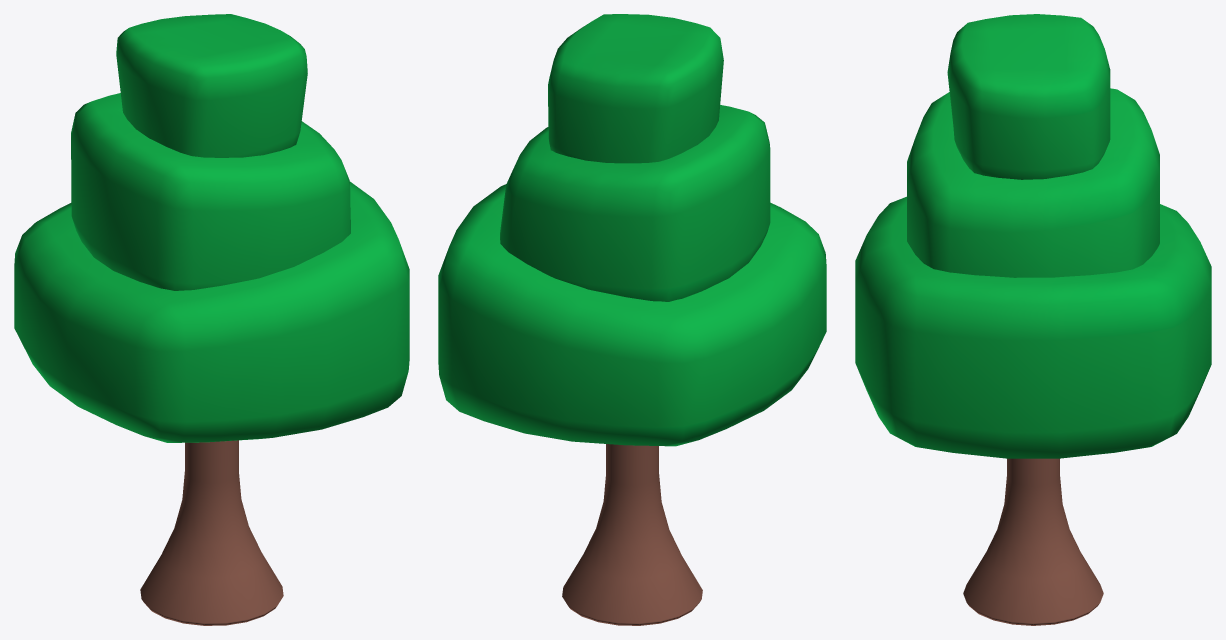
Rendered from Town_4_Tree_2.glb.
The picture shows the model from 3 angles, left to right: view 1: azimuth 30°, elevation 25°; view 2: azimuth 150°, elevation 25°; view 3: azimuth 270°, elevation 25°; orthographic projection. The views are drawn at different scales.
Parts seen in each view (by area): view 1: Town_4_Tree_2; view 2: Town_4_Tree_2; view 3: Town_4_Tree_2.
Part boxes in pixels (x1,y1,x2,y2): Town_4_Tree_2: (14, 14, 409, 625); Town_4_Tree_2: (438, 14, 826, 625); Town_4_Tree_2: (855, 14, 1211, 625).
Bounding box in the file's own units: 2.75 × 4.71 × 2.75.
Materials: 1 (1 with a texture image).
